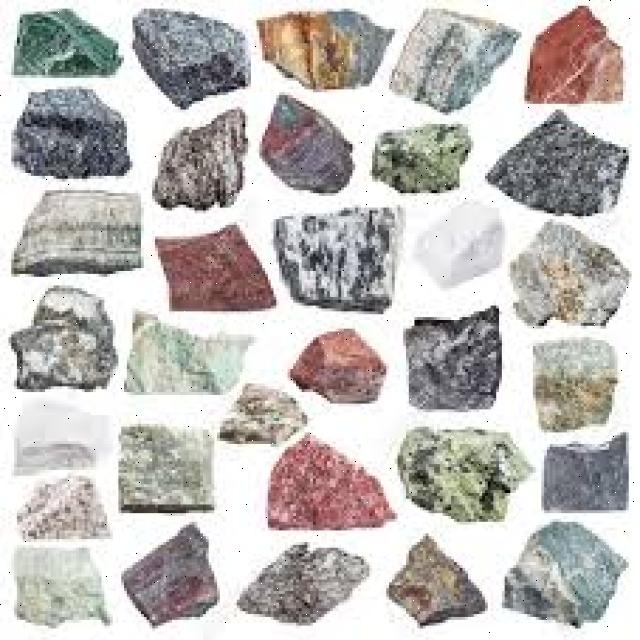Metamorphic: (389, 418, 527, 530), (502, 519, 634, 634), (508, 216, 634, 334), (245, 436, 403, 530), (392, 3, 521, 118), (234, 530, 372, 634), (494, 110, 632, 213), (265, 204, 398, 306), (124, 312, 257, 409), (5, 282, 116, 398), (389, 308, 519, 406), (130, 5, 256, 106), (524, 3, 634, 115), (246, 3, 386, 89), (519, 334, 634, 436), (8, 190, 146, 274), (9, 89, 138, 176), (124, 519, 223, 631), (150, 225, 279, 308), (150, 110, 256, 210), (257, 92, 358, 193), (118, 421, 225, 516), (381, 533, 485, 623), (11, 547, 107, 640), (282, 326, 392, 406), (530, 435, 640, 513), (12, 8, 122, 84), (412, 199, 502, 285), (17, 478, 116, 550), (11, 404, 107, 476), (378, 121, 462, 196), (205, 384, 318, 438)
